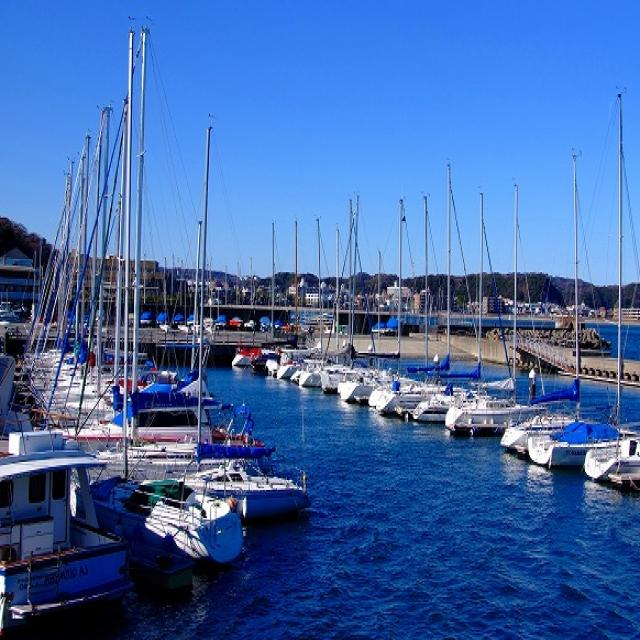fishing boat: (118, 474, 242, 562), (209, 446, 307, 533), (526, 414, 624, 476), (440, 395, 516, 440), (372, 365, 434, 416), (589, 439, 640, 493), (398, 396, 470, 425)
